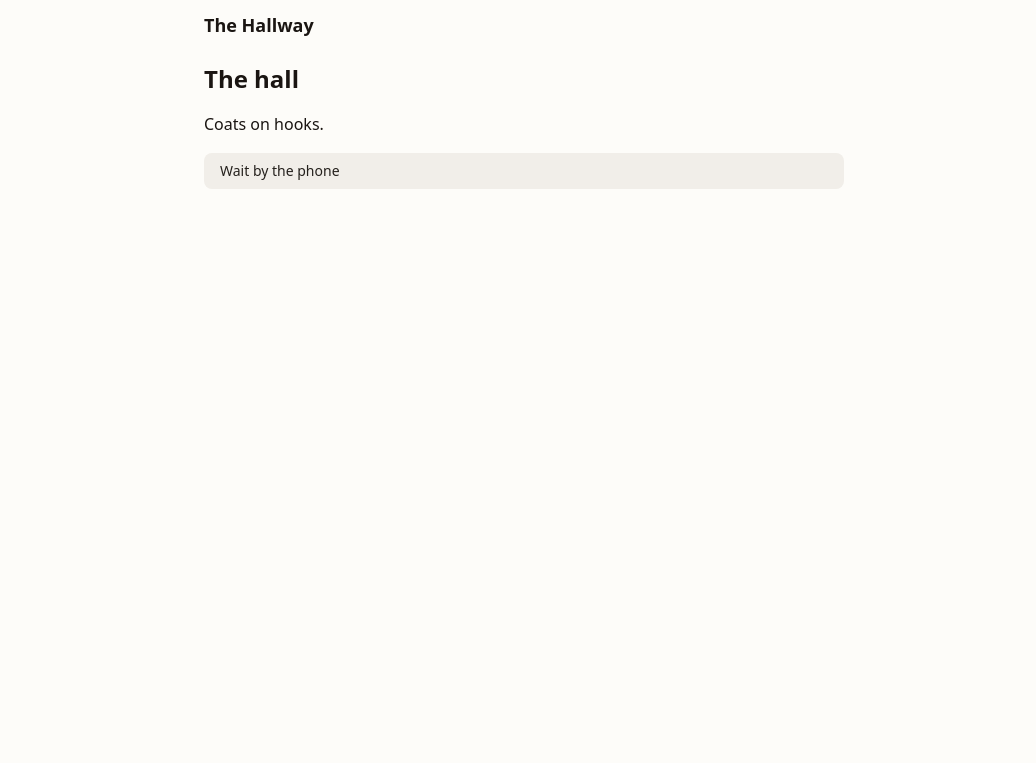
Countdown › goes anywhere in a layout, alone or all together, and can be replaced by name
The image size is (1036, 763).
Later steps or results of the test are not shown.
Click the button "Wait by the phone". click: (280, 170)
box: top-left (204, 153), bottom-right (844, 189)
(page scrolled)
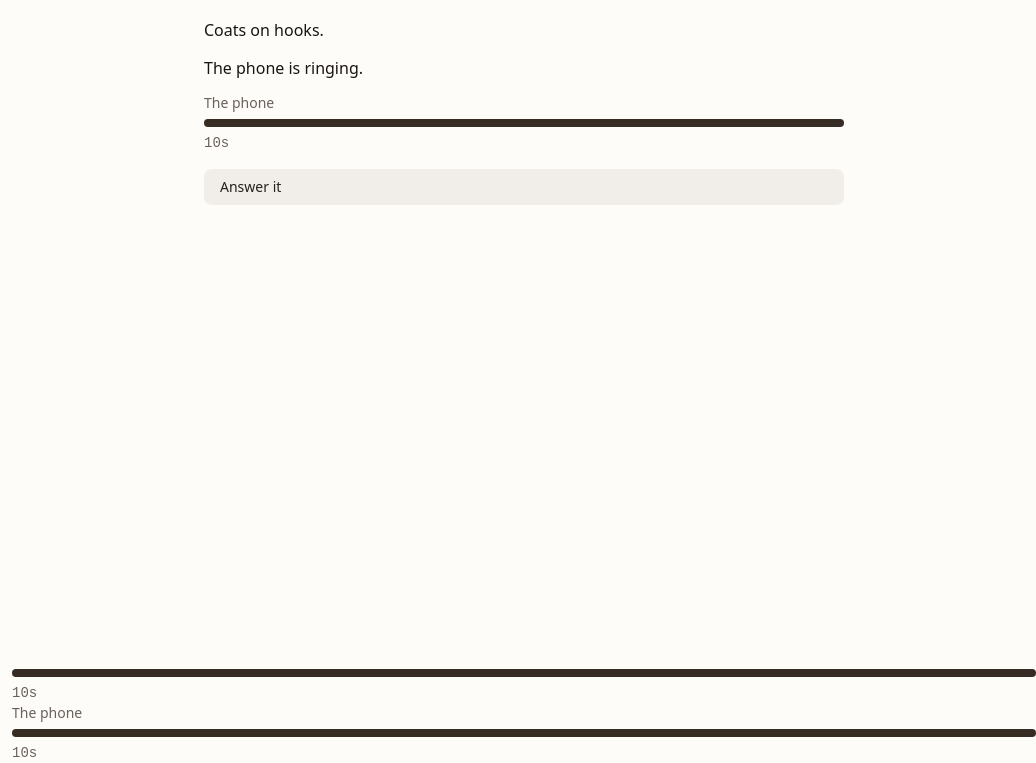
Now the 2nd text "The phone" is shown, box top-left (12, 703), bottom-right (82, 722)
